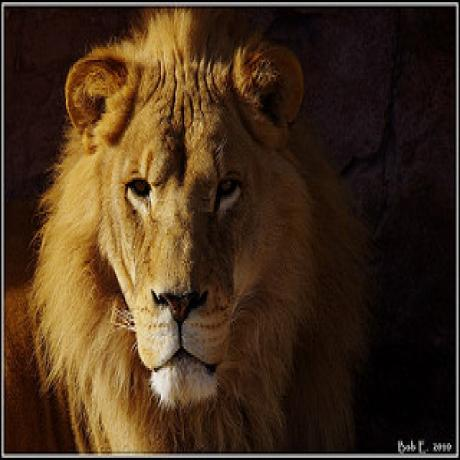Lion: (3, 0, 366, 460)
